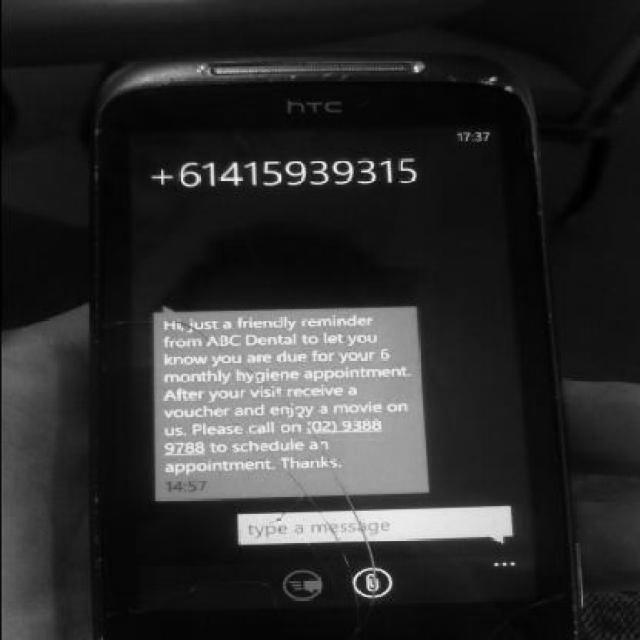fake: (81, 24, 574, 624)
